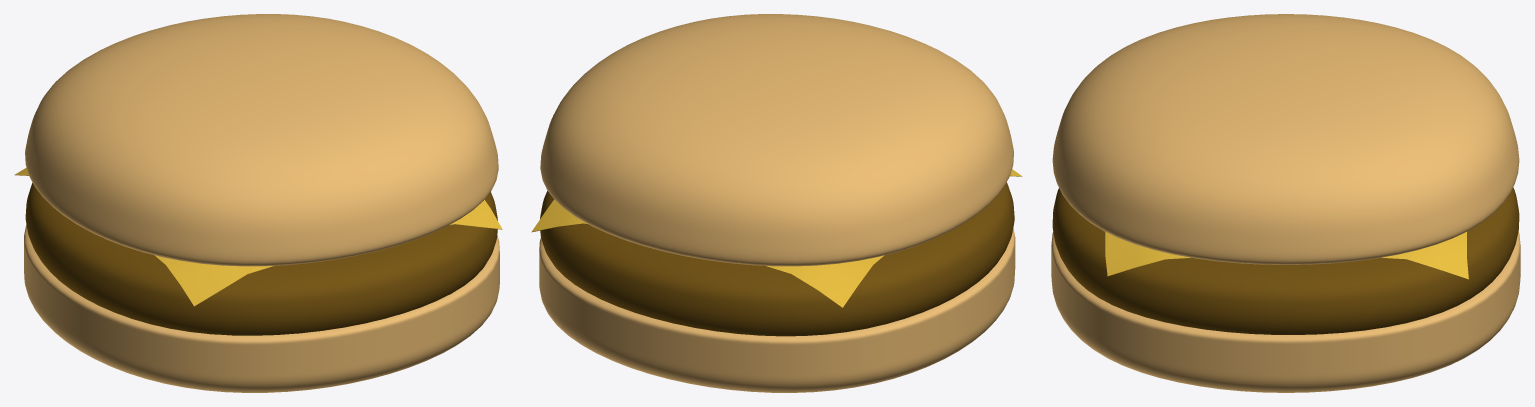
File: hamburger.glb
The picture shows the model from 3 angles, left to right: view 1: azimuth 30°, elevation 25°; view 2: azimuth 150°, elevation 25°; view 3: azimuth 270°, elevation 25°; orthographic projection.
Parts seen in each view (by area): view 1: Cube.002, Cube.001, Cube, Plane; view 2: Cube.002, Cube.001, Cube, Plane; view 3: Cube.002, Cube.001, Cube, Plane.
Boxes of the visible parts, <box> form: Cube.002: <box>25,14,498,266</box>; Cube.001: <box>25,183,497,335</box>; Cube: <box>24,225,499,392</box>; Plane: <box>14,167,502,306</box>; Cube.002: <box>540,14,1013,266</box>; Cube.001: <box>540,182,1014,336</box>; Cube: <box>539,228,1015,392</box>; Plane: <box>531,169,1022,307</box>; Cube.002: <box>1052,14,1519,264</box>; Cube.001: <box>1052,187,1519,334</box>; Cube: <box>1051,231,1520,392</box>; Plane: <box>1105,232,1468,279</box>.
Bounding box in the file's own units: 9.2 × 5.47 × 9.2.
